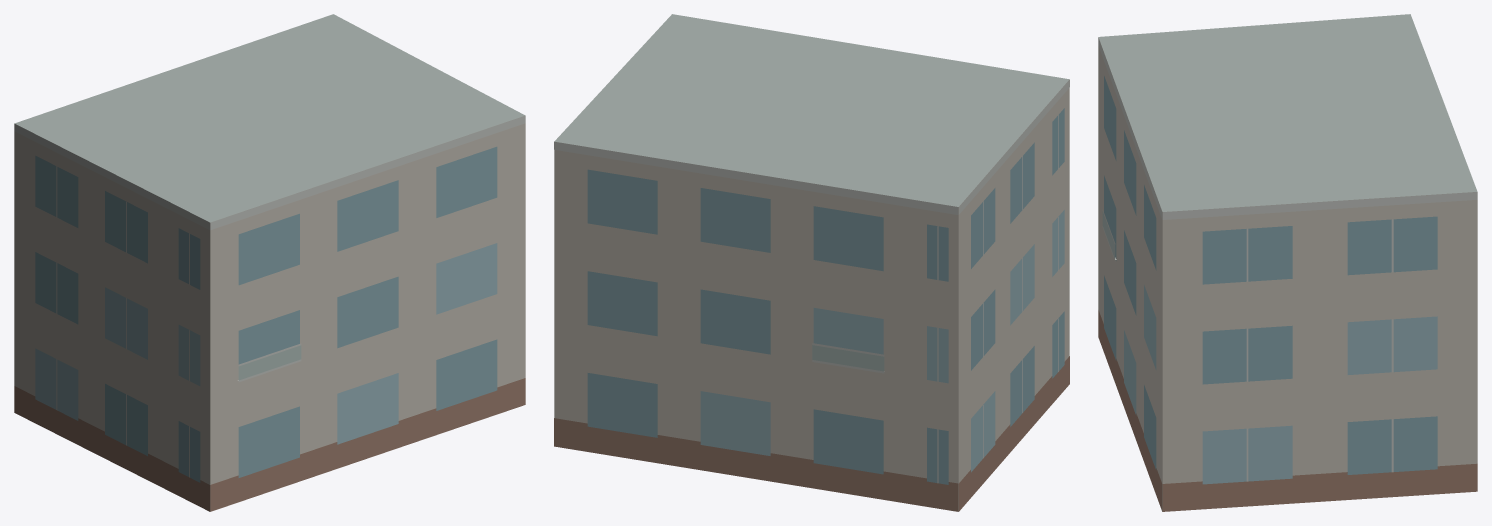
The model's file is survey-upis-32920175.glb.
The picture shows the model from 3 angles, left to right: view 1: azimuth 30°, elevation 25°; view 2: azimuth 150°, elevation 25°; view 3: azimuth 270°, elevation 25°; orthographic projection. The views are drawn at different scales.
Visible parts, largest first — view 1: survey-upis-32920175.tmp; view 2: survey-upis-32920175.tmp; view 3: survey-upis-32920175.tmp.
Boxes of the visible parts, left/top/right/bottom form: survey-upis-32920175.tmp: left=14, top=14, right=525, bottom=511; survey-upis-32920175.tmp: left=554, top=14, right=1069, bottom=511; survey-upis-32920175.tmp: left=1098, top=14, right=1477, bottom=511.
Bounding box in the file's own units: 12.97 × 9.15 × 10.5.
